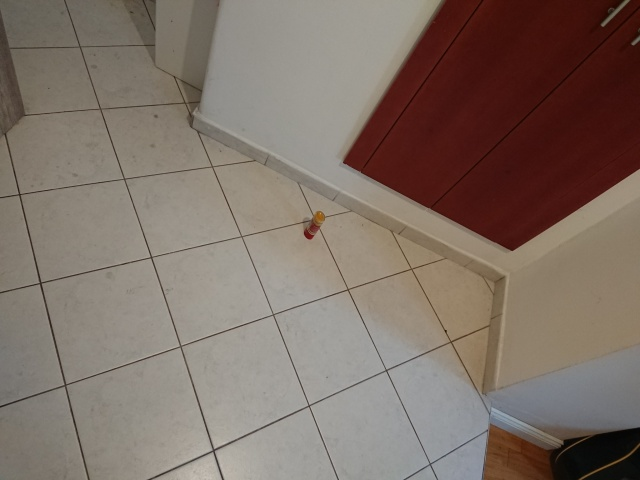Kotanyi Curry Spices Mix 70g: (302, 208, 327, 241)
